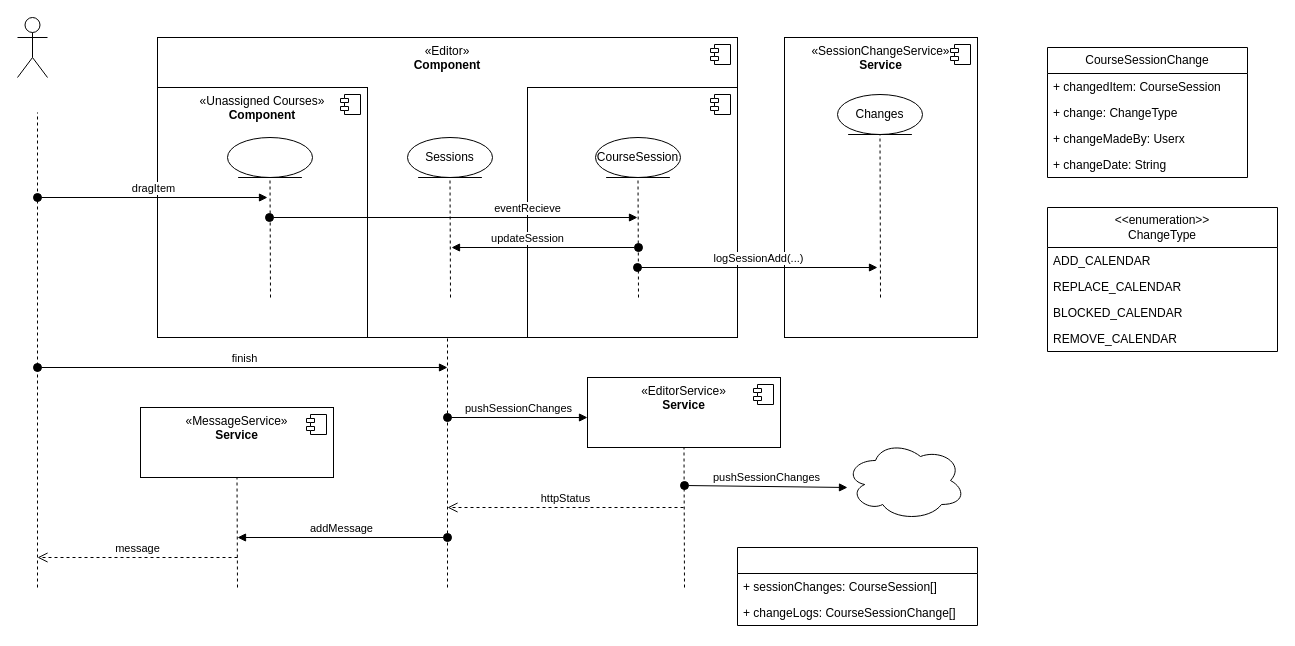
The diagram is 1295 pixels wide and 646 high, and some of its shapes have lost their labels. The shapes that lost their labels are listed below. From the top down, each one's box as (x1, y1, x2, y2) in pixels, then its label:
(16, 16, 48, 78): Userx
(226, 136, 312, 178): DragElement
(526, 86, 738, 338): «Calendar » Component
(844, 440, 966, 520): API
(736, 546, 978, 626): HttpBody
